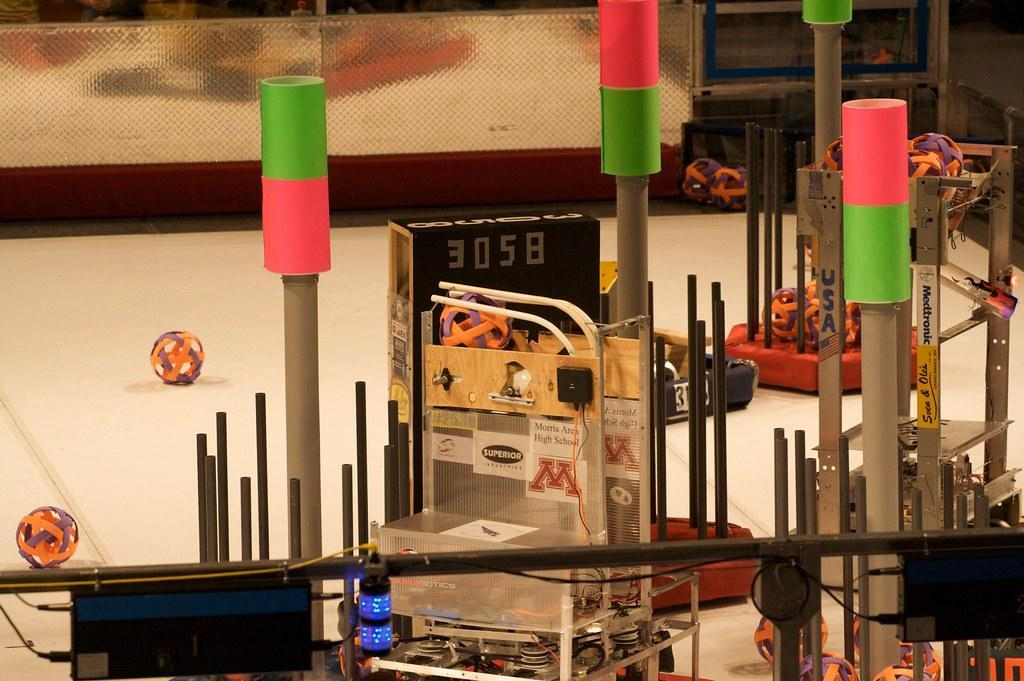robot: (340, 310, 677, 681), (376, 203, 619, 557)
